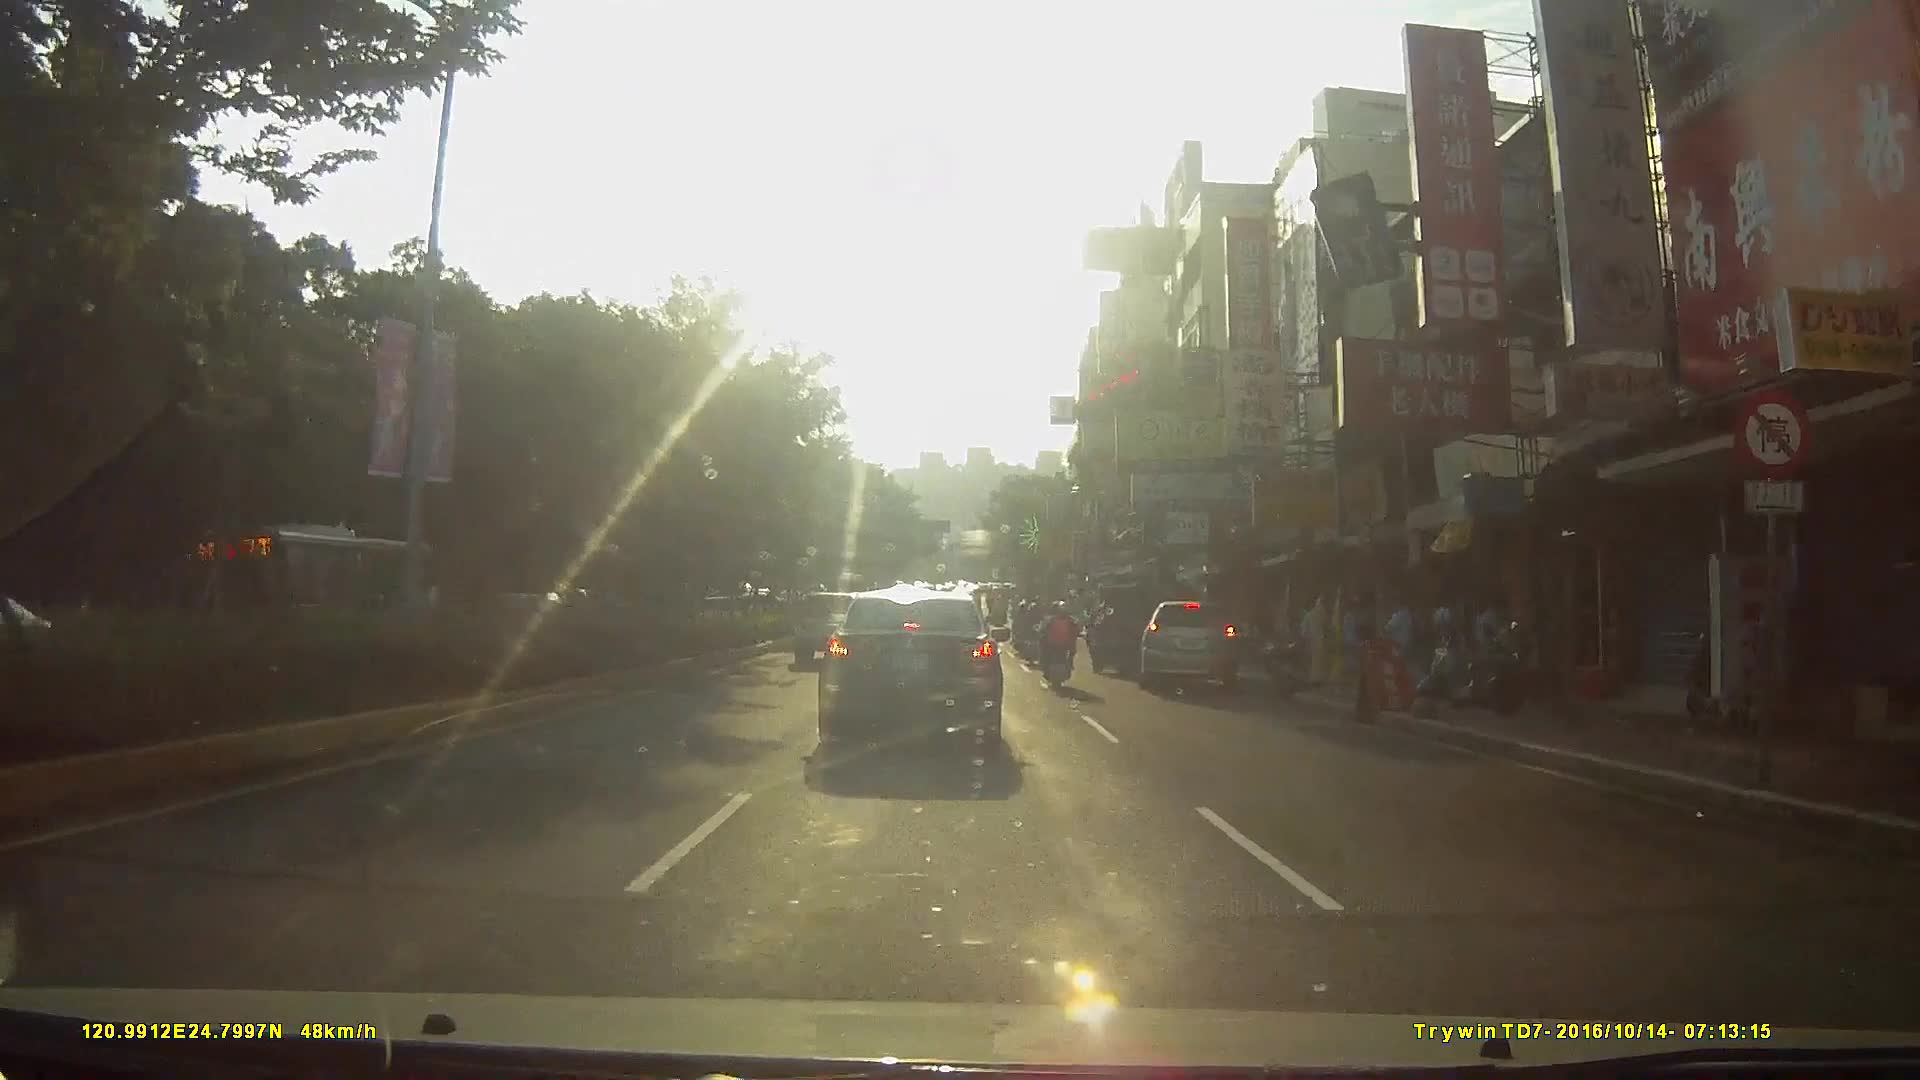pedestrian: (1386, 599, 1426, 689), (1476, 595, 1506, 683), (1433, 595, 1453, 673)
rider: (1039, 597, 1083, 694), (1018, 601, 1044, 669)
vehicle: (818, 589, 1030, 767), (188, 520, 442, 668), (1078, 576, 1180, 684), (1146, 601, 1256, 703)
